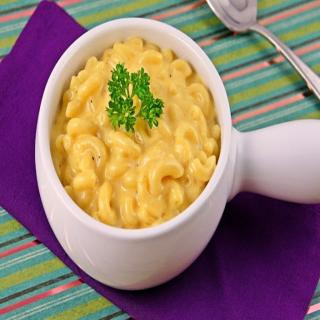Pasta: (42, 35, 224, 234)
